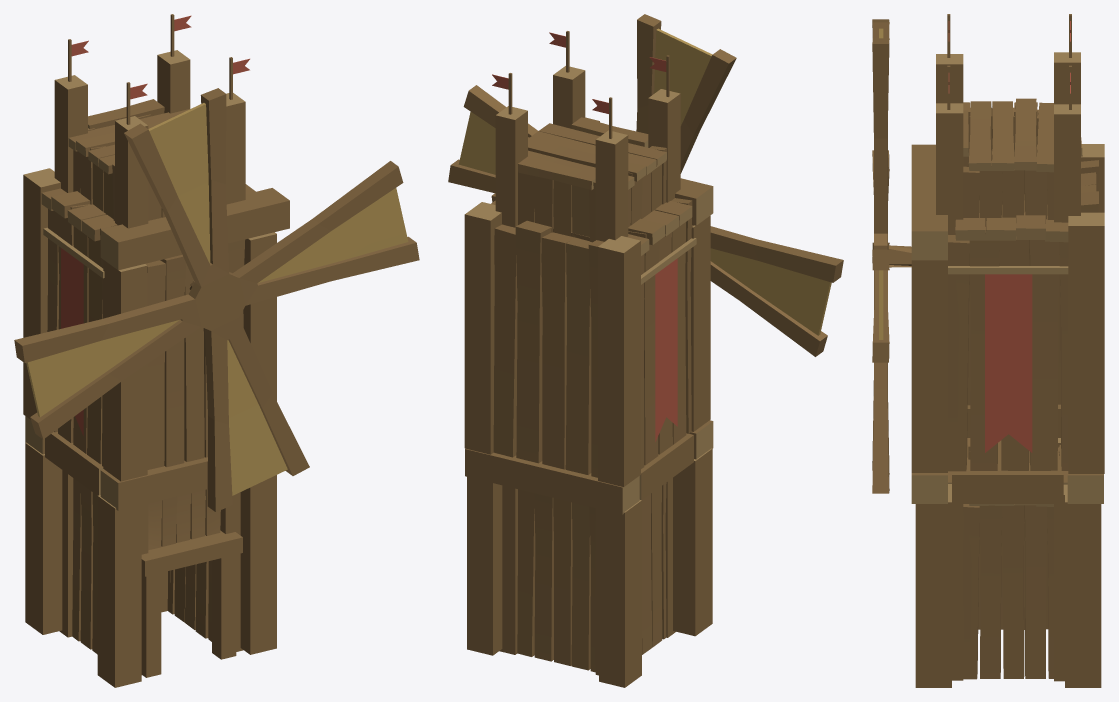
Rendered from windmill.glb.
The picture shows the model from 3 angles, left to right: view 1: azimuth 30°, elevation 25°; view 2: azimuth 150°, elevation 25°; view 3: azimuth 270°, elevation 25°; orthographic projection. The views are drawn at different scales.
Size of the model in its own units: 1.35 by 1.92 by 0.6604.
